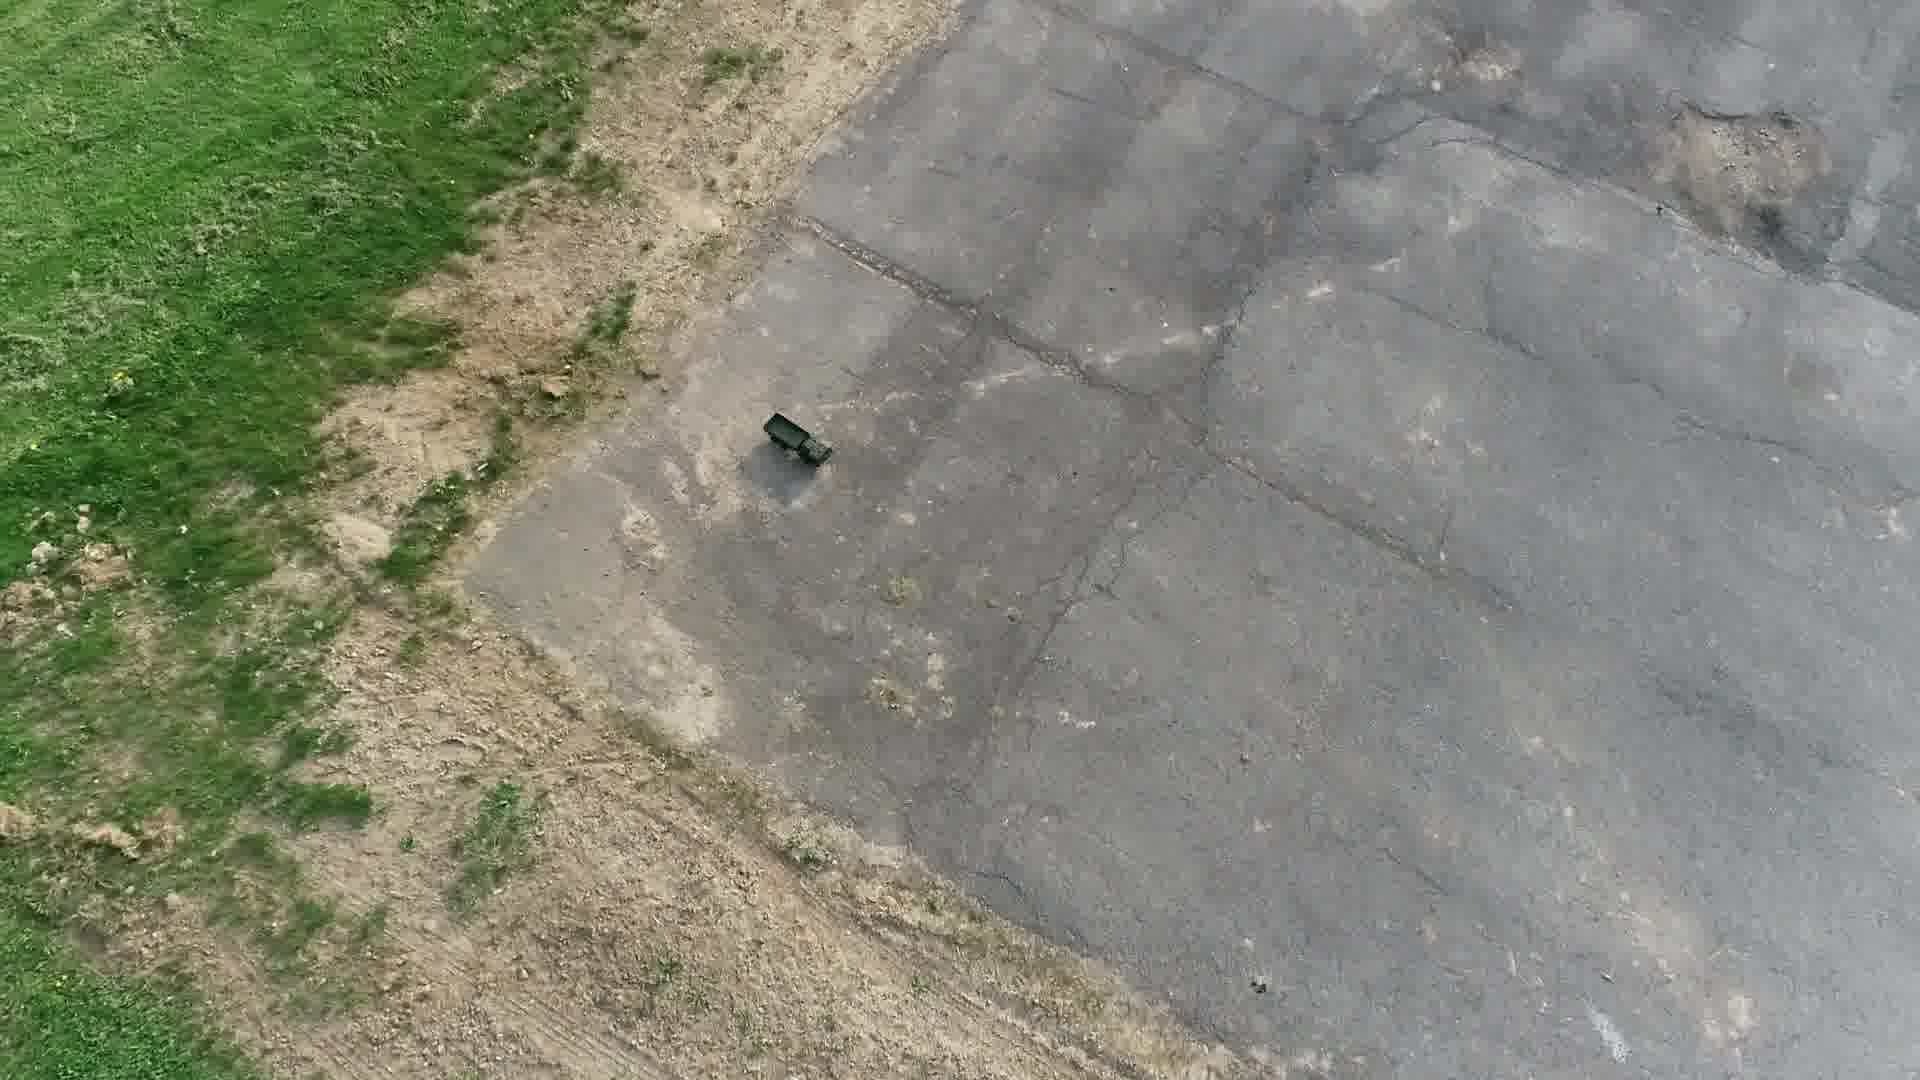transporter9: (760, 407, 835, 471)
